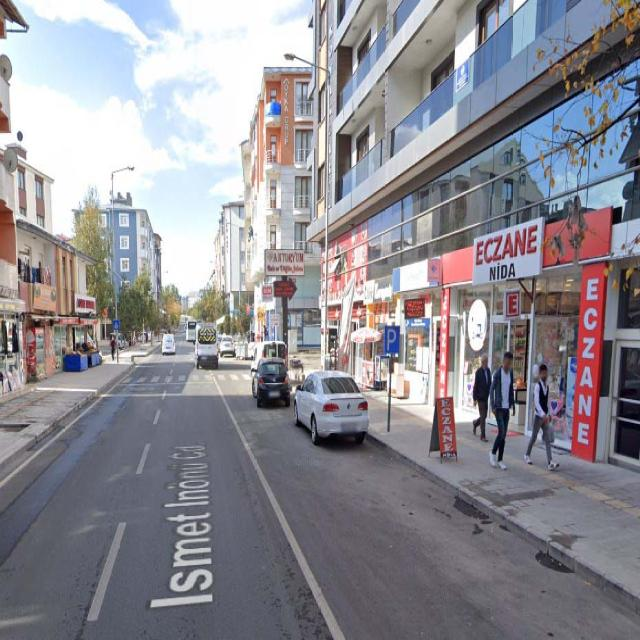park: (384, 325, 398, 351)
